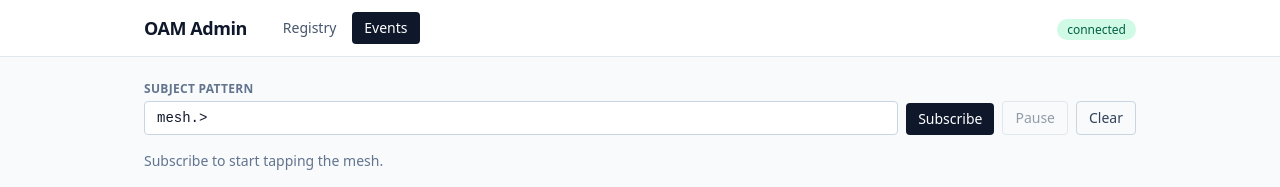
Test: event feed screen › unsubscribe stops the feed and restores the Subscribe button
Click the button "Subscribe": point(950, 119) [906, 103, 994, 135]
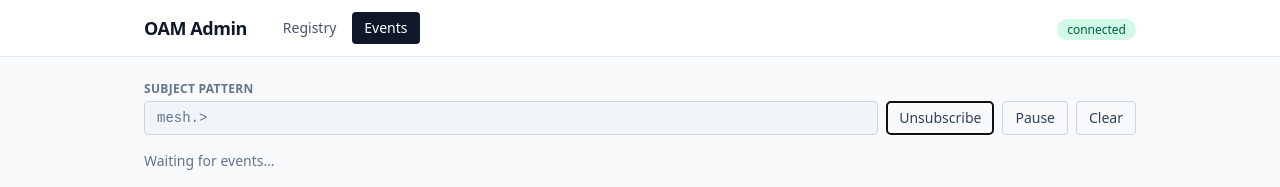
Click the button "Unsubscribe": point(940, 118) [886, 101, 994, 135]
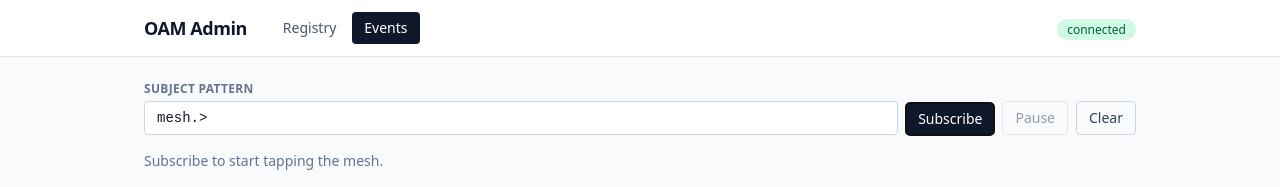
Result: the button "Subscribe" is shown at [906, 103, 994, 135]
